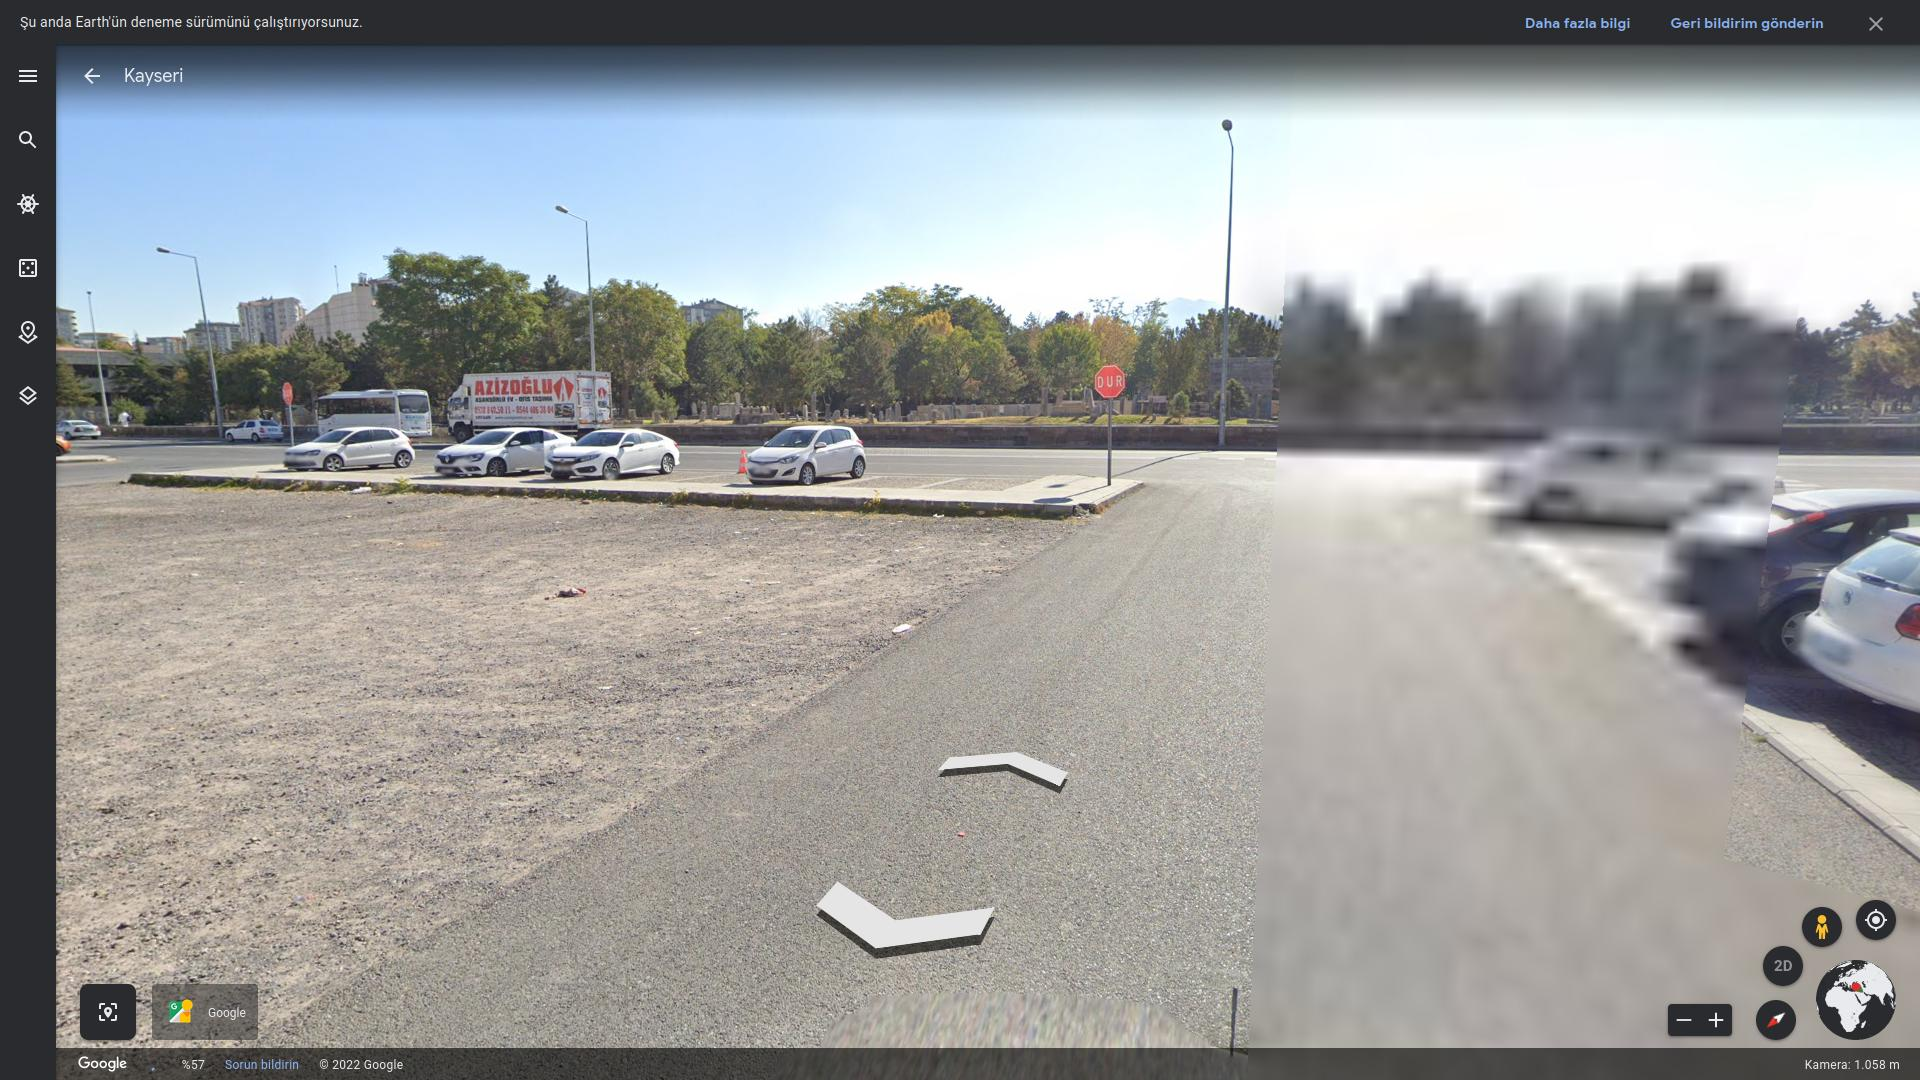stop: (1096, 365, 1126, 398)
